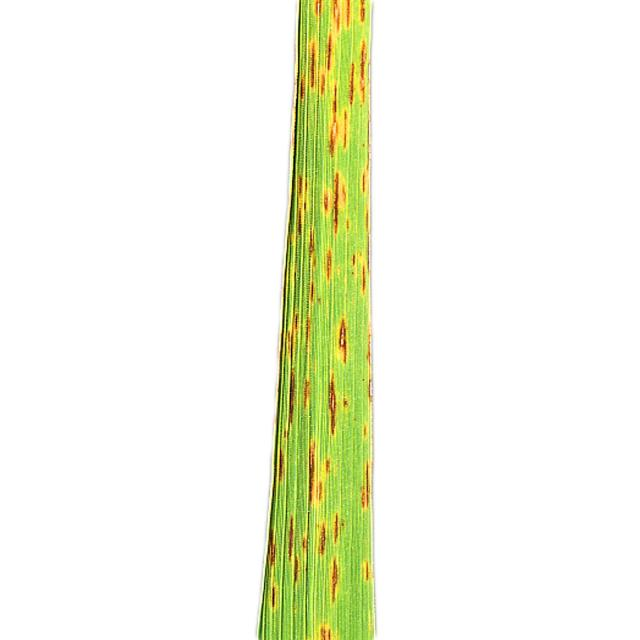Narrow brown: (224, 0, 550, 640)
